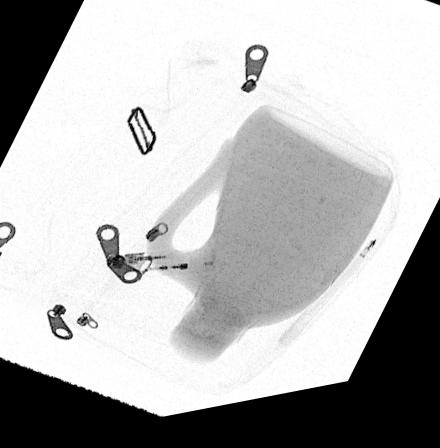Lighter: (123, 255, 215, 277)
